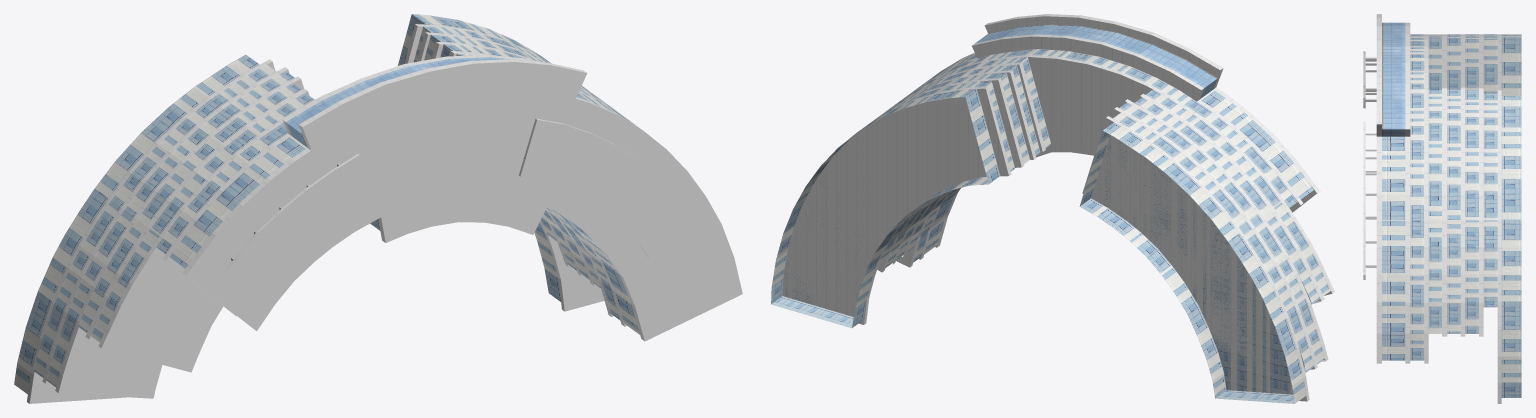
3 views of the same model, side by side, from view 1: azimuth 30°, elevation 25°; view 2: azimuth 150°, elevation 25°; view 3: azimuth 270°, elevation 25° (orthographic). The views are drawn at different scales.
Visible parts, largest first — view 1: 11.012, 11.011, 11.002, 11.001; view 2: 11.012, 11.011; view 3: 11.011, 11.012, 立方体.001, 11.002, 11.001.
Part boxes in pixels (left/top/right/bottom): 11.012: left=27, top=24, right=742, bottom=403; 11.011: left=14, top=14, right=639, bottom=394; 11.002: left=519, top=118, right=695, bottom=258; 11.001: left=225, top=154, right=375, bottom=301; 11.012: left=782, top=14, right=1334, bottom=401; 11.011: left=771, top=24, right=1330, bottom=403; 11.011: left=1382, top=22, right=1521, bottom=397; 11.012: left=1376, top=14, right=1501, bottom=403; 立方体.001: left=1365, top=57, right=1376, bottom=267; 11.002: left=1363, top=121, right=1365, bottom=279; 11.001: left=1363, top=51, right=1365, bottom=108.
Bounding box in the file's own units: 4.89 × 2.62 × 1.47.
5 materials, 4 textured.
